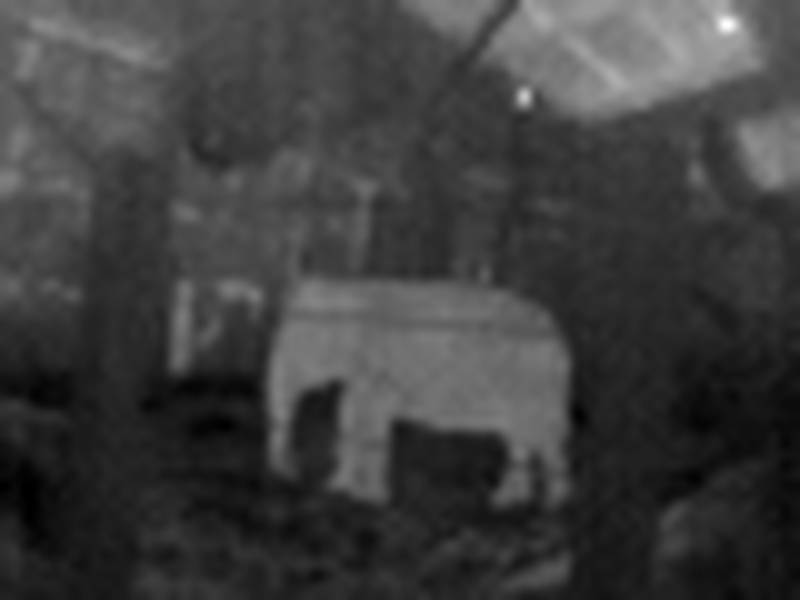elephant: (264, 275, 555, 505)
